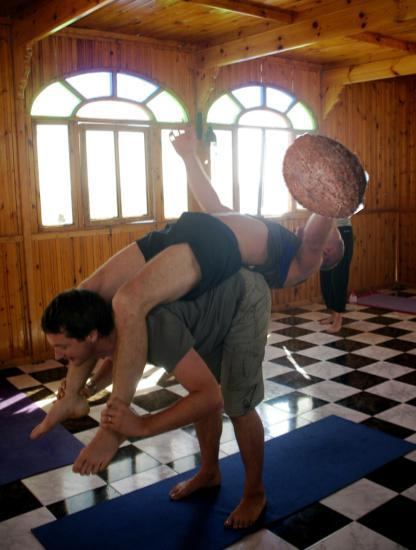Cocos: (278, 129, 374, 225)
